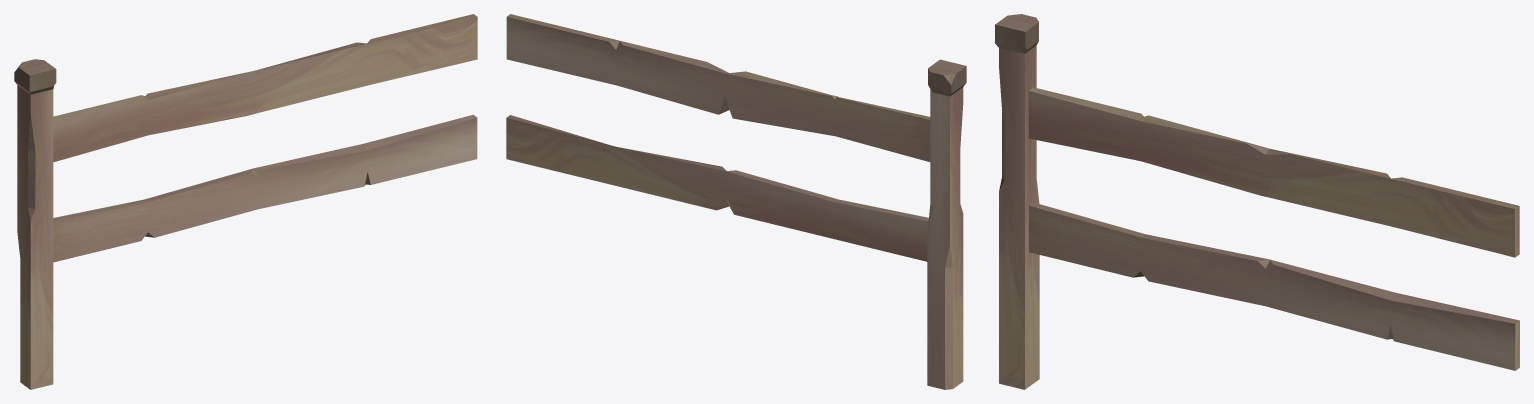
Rendered from fence post half.fbx.
The picture shows the model from 3 angles, left to right: view 1: azimuth 30°, elevation 25°; view 2: azimuth 150°, elevation 25°; view 3: azimuth 330°, elevation 25°; orthographic projection. The views are drawn at different scales.
Visible parts, largest first — view 1: Cube, Cube.002; view 2: Cube, Cube.002; view 3: Cube, Cube.002.
Part boxes in pixels (<box>): Cube: <box>53,14,477,262</box>; Cube.002: <box>14,59,56,389</box>; Cube: <box>506,14,930,261</box>; Cube.002: <box>927,59,966,389</box>; Cube: <box>1028,87,1519,370</box>; Cube.002: <box>995,14,1039,389</box>.
Size of the model in its own units: 1752 by 1169 by 103.
